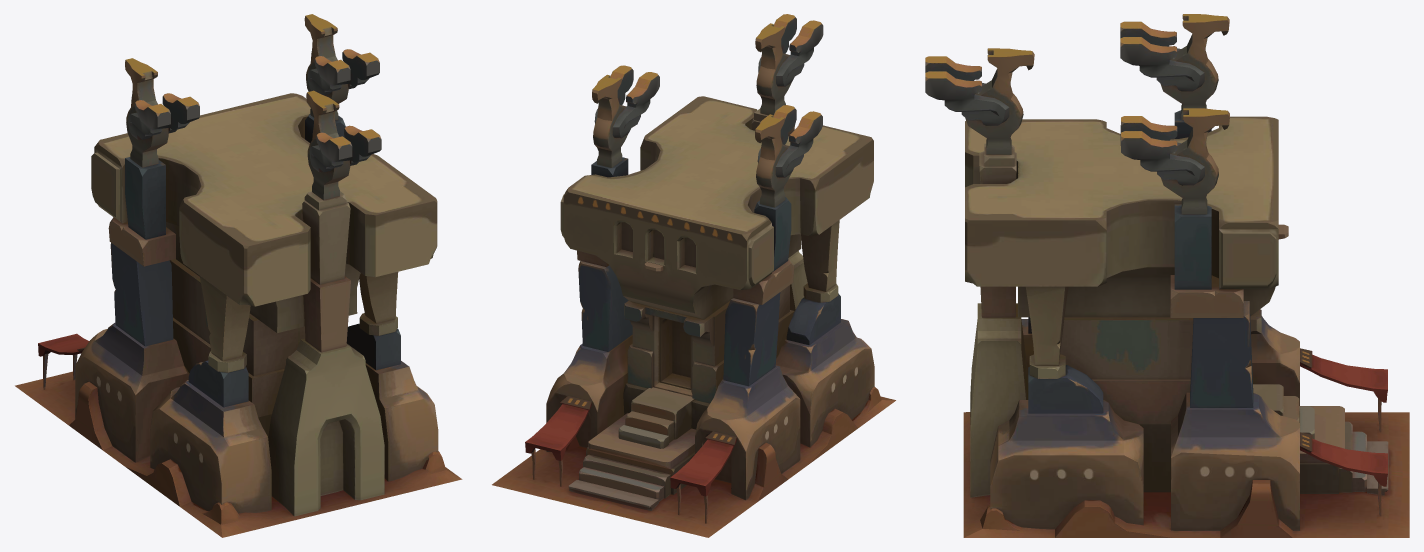
Rendered from BUD_Building_E_01.obj.
3 views of the same model, side by side, from view 1: azimuth 30°, elevation 25°; view 2: azimuth 150°, elevation 25°; view 3: azimuth 270°, elevation 25° (orthographic). The views are drawn at different scales.
Visible parts, largest first — view 1: BUD_Building_E_01; view 2: BUD_Building_E_01; view 3: BUD_Building_E_01.
Part boxes in pixels (left/top/right/bottom): BUD_Building_E_01: left=15, top=14, right=462, bottom=537; BUD_Building_E_01: left=492, top=14, right=895, bottom=537; BUD_Building_E_01: left=925, top=14, right=1409, bottom=537.
Bounding box in the file's own units: 7.2 × 11.31 × 11.73.
1 material, 1 textured.
